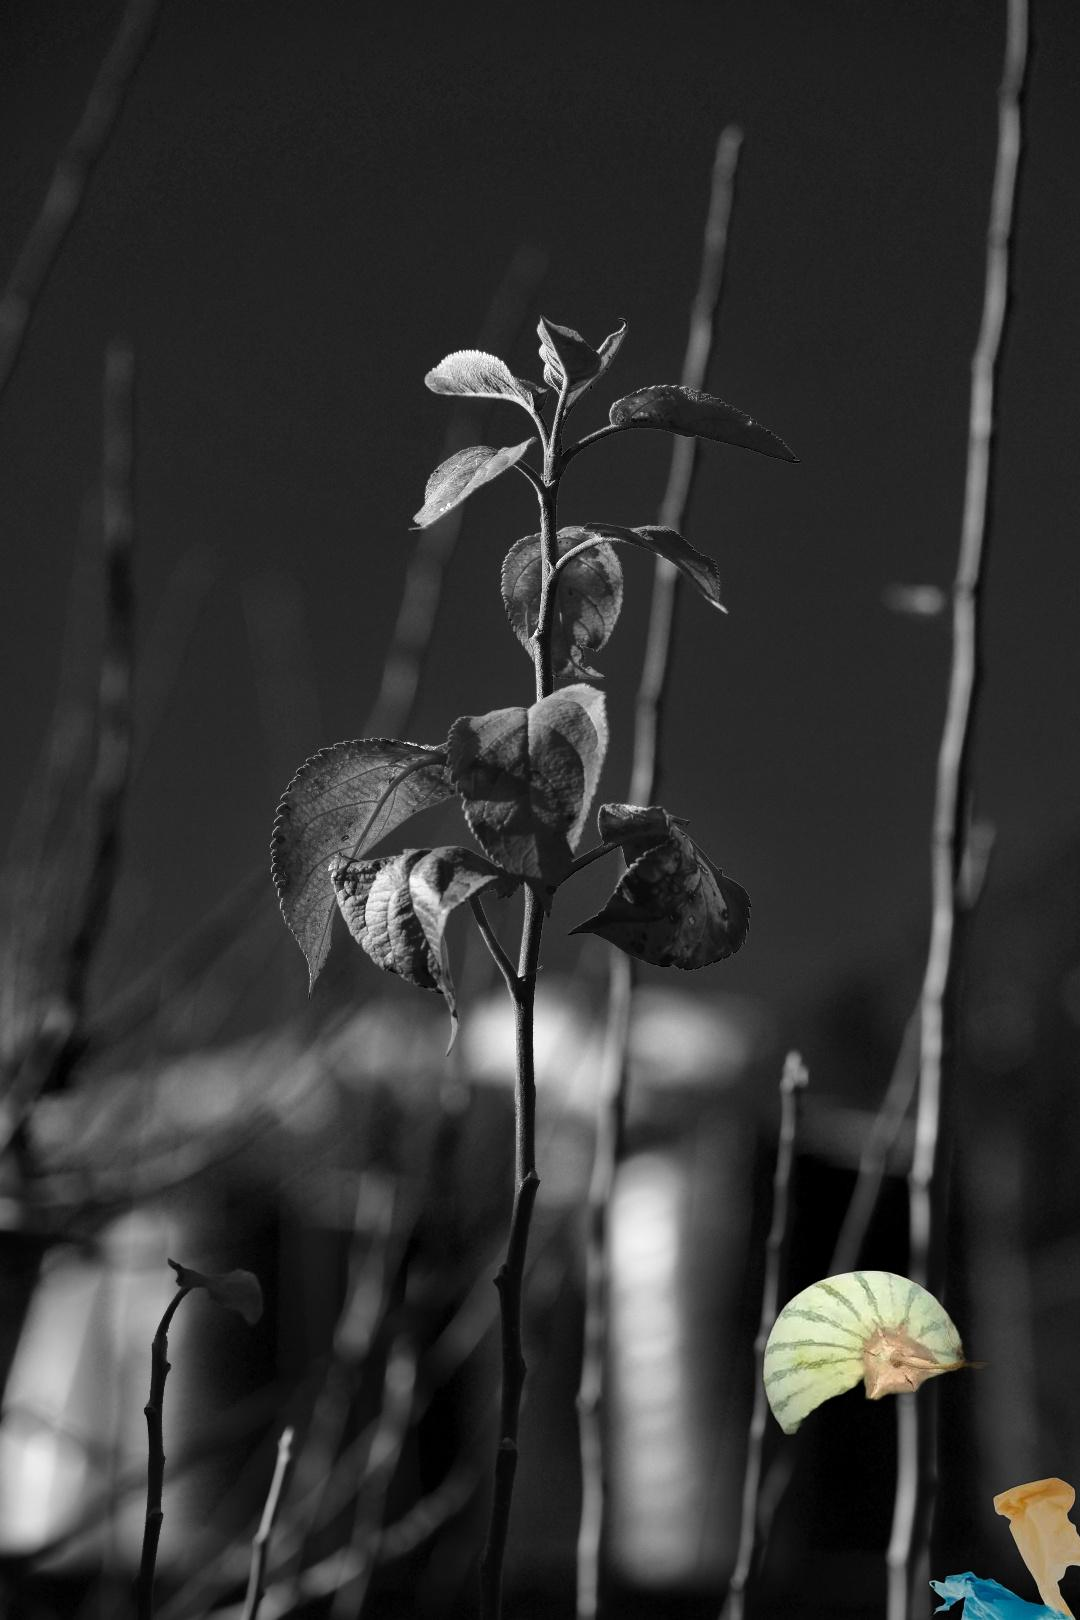biological: (761, 1267, 1006, 1452)
plastic-bag: (925, 1474, 1080, 1620)
